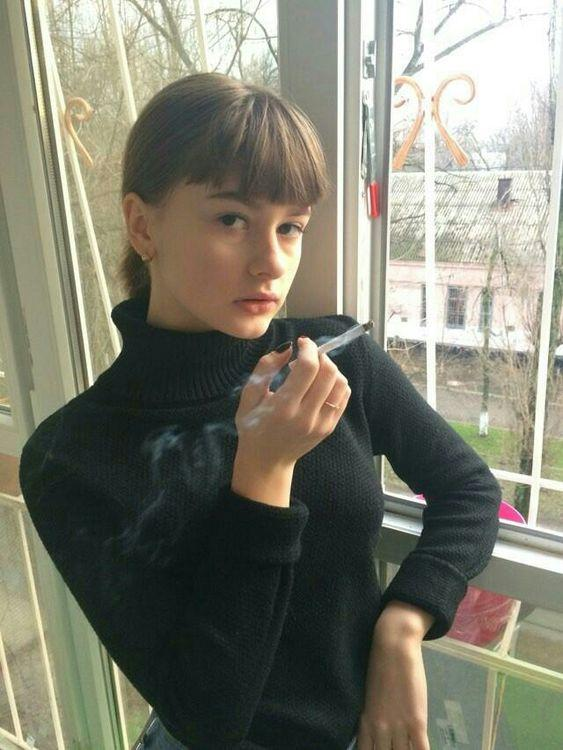cigarette: (288, 320, 376, 372)
